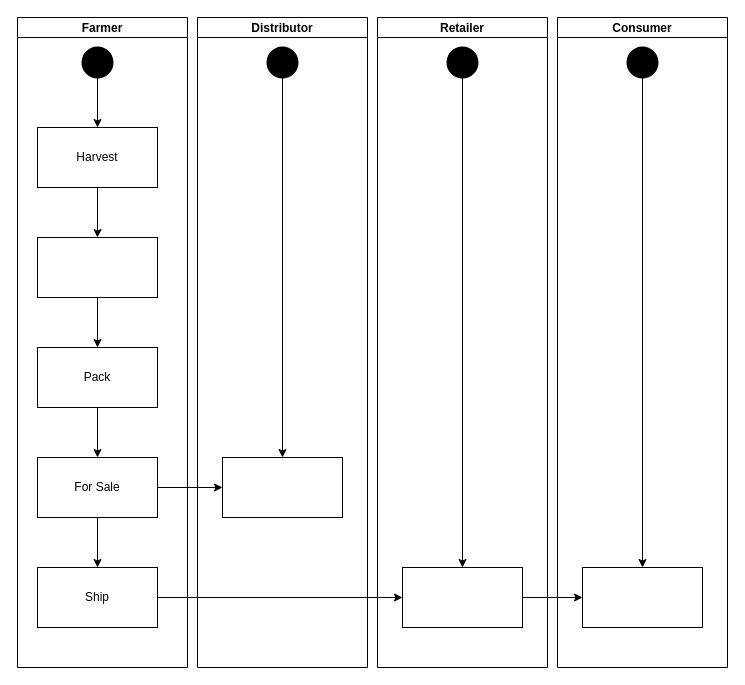
This 745x685 diagram has some shape labels left out. The centre of each missing label's shape, as x and y in pixels:
Buy: pixel 282 487
Process: pixel 97 267
Purchase: pixel 642 597
Receive: pixel 462 597
